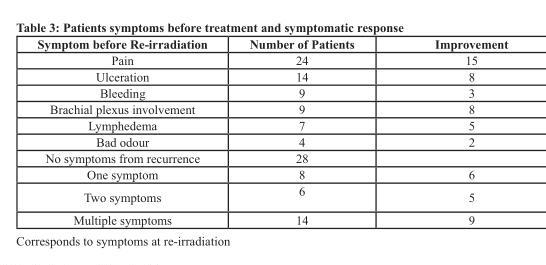table: (36, 36, 507, 226)
table column: (36, 36, 227, 226), (227, 36, 393, 226), (393, 36, 507, 226)
table column header: (36, 36, 507, 51)
table row: (36, 182, 507, 208), (36, 208, 507, 226), (36, 67, 507, 84), (36, 116, 507, 133), (36, 165, 507, 182), (36, 51, 507, 67), (36, 84, 507, 100), (36, 100, 507, 116), (36, 133, 507, 149), (36, 149, 507, 165), (36, 36, 507, 51)
